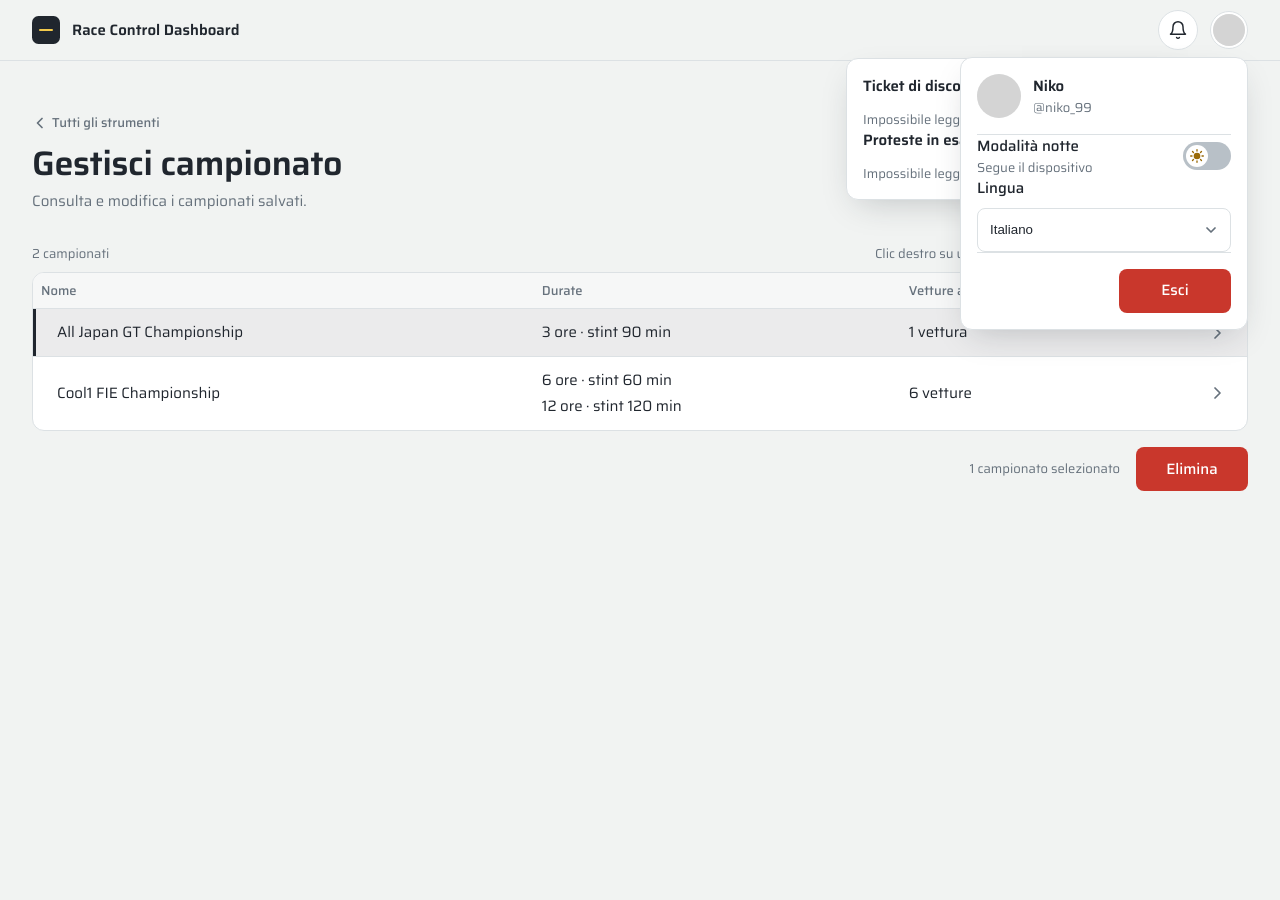
Gestisci campionato › mostra i campionati con durate e vetture; il clic destro seleziona ed Elimina chiede conferma
Expected: the text "6 ore · stint 60 min" is shown, [542, 368, 672, 392]
Expected: the text "6 vetture" is shown, [897, 356, 1187, 430]
Click the button "Elimina" at (1192, 469), box [1136, 447, 1248, 491]
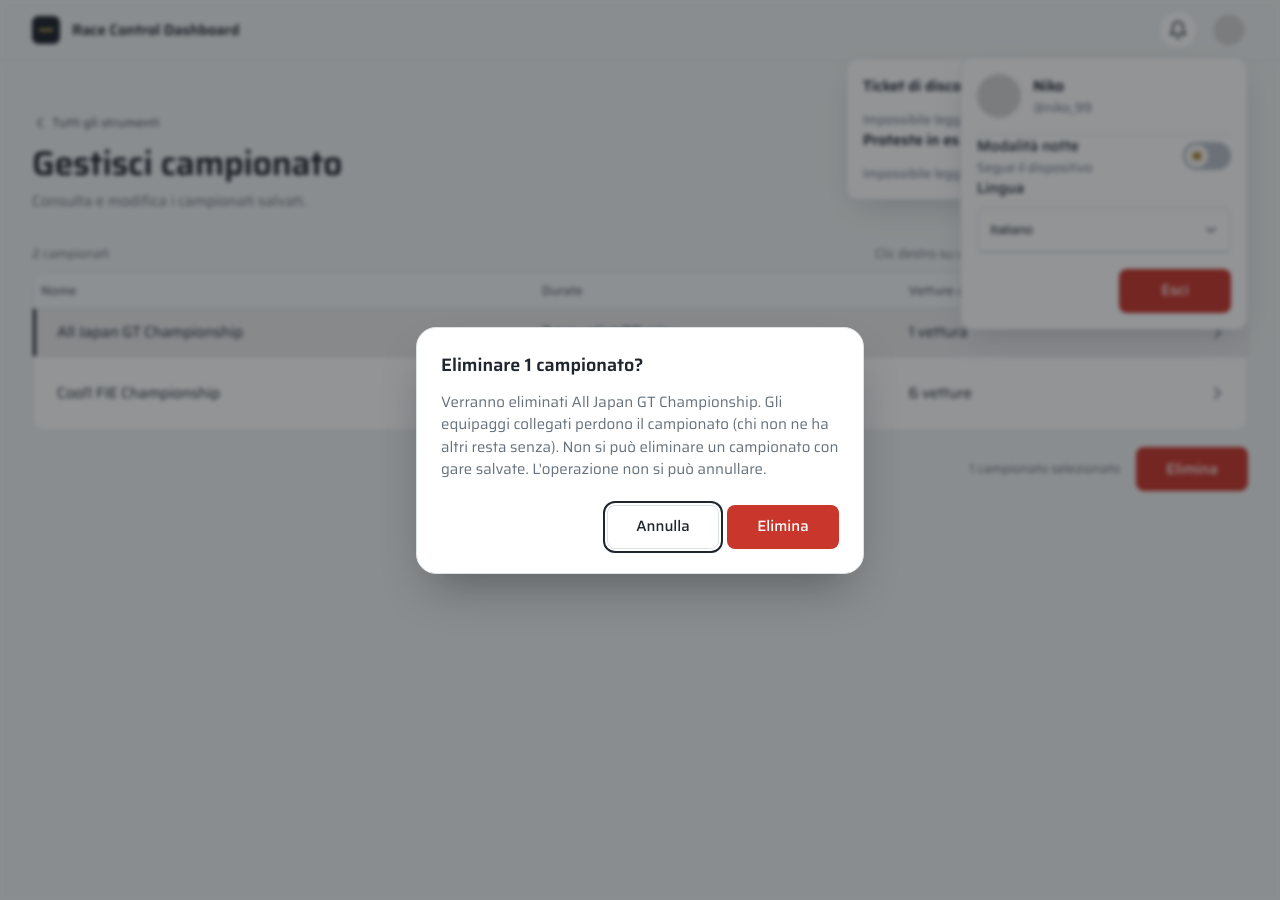
Result: the dialog "Eliminare 1 campionato?" shows "Gli equipaggi collegati perdono il campionato" at [441, 390, 838, 481]
Click the button "Elimina" below "Eliminare 1 campionato?" at (783, 526), box [727, 504, 839, 548]
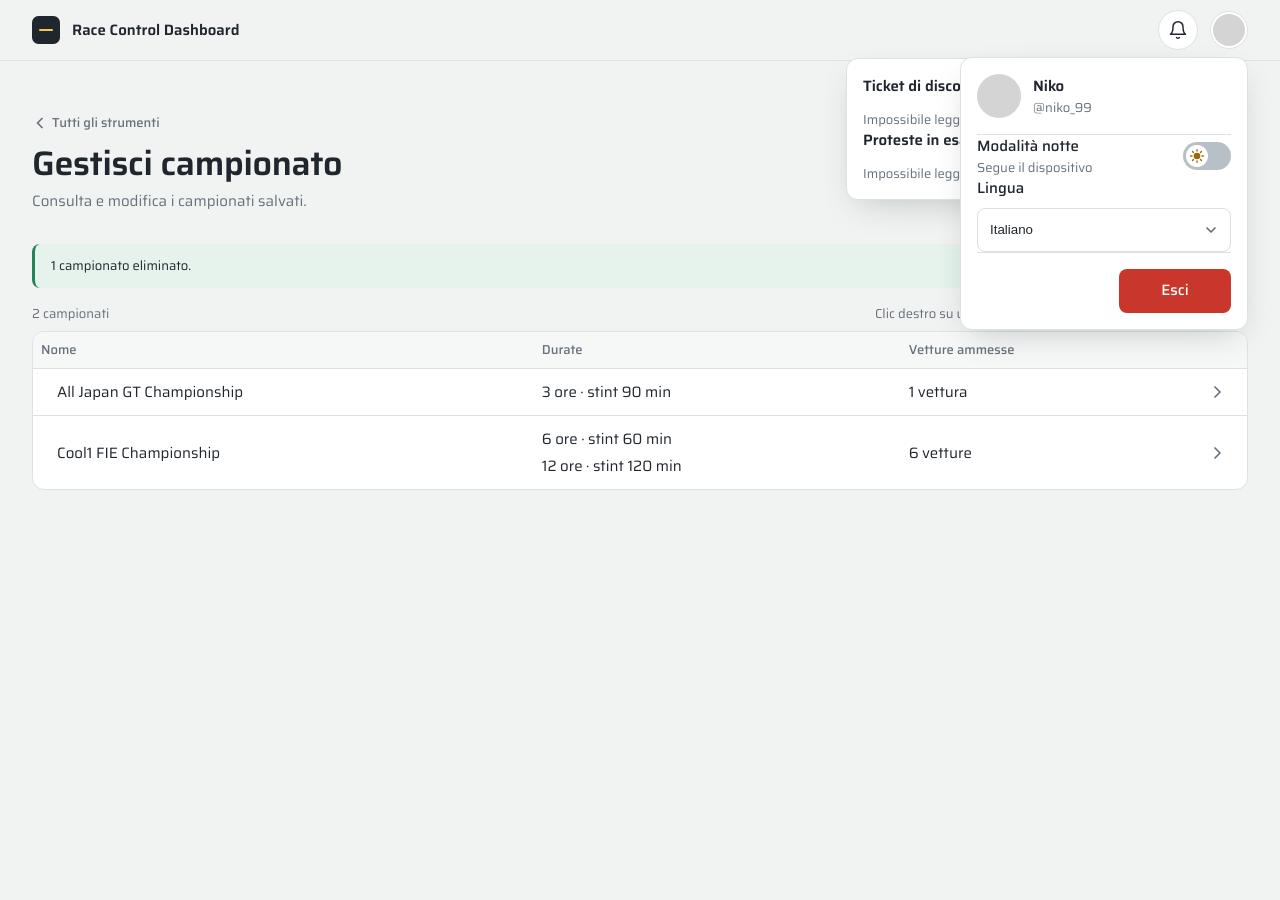
Result: the text "1 campionato eliminato." is shown at [32, 244, 1248, 288]
